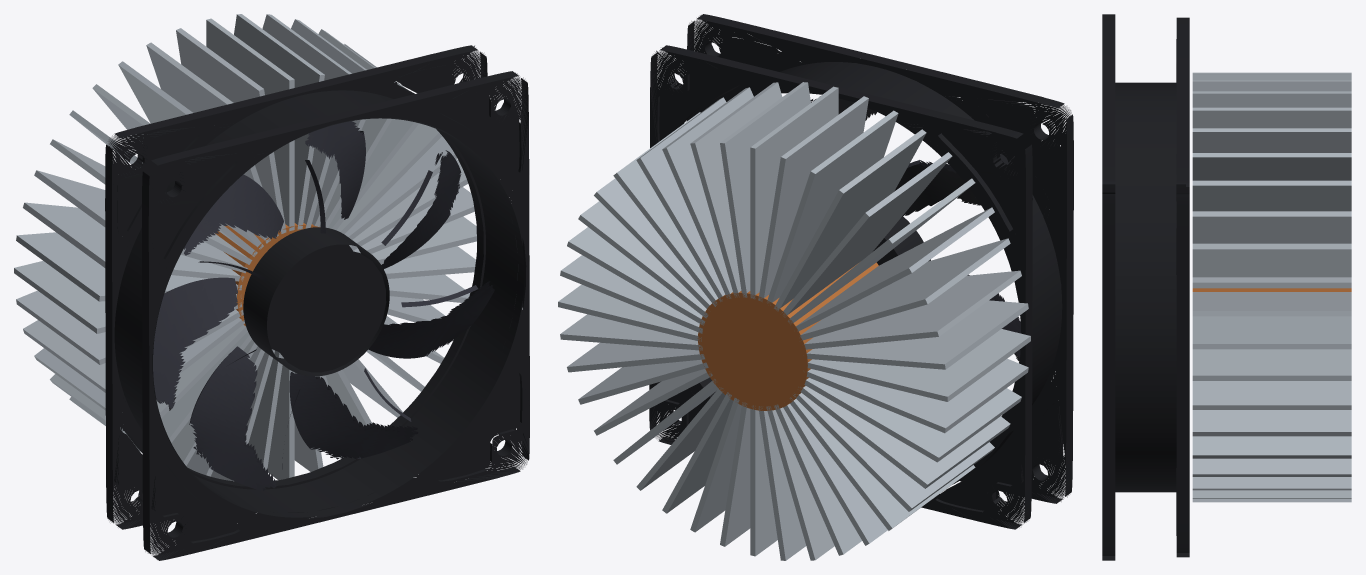
File: cooler_stock.glb
The picture shows the model from 3 angles, left to right: view 1: azimuth 30°, elevation 25°; view 2: azimuth 150°, elevation 25°; view 3: azimuth 270°, elevation 25°; orthographic projection. The views are drawn at different scales.
Parts seen in each view (by area): view 1: part_cooler_stock; view 2: part_cooler_stock; view 3: part_cooler_stock.
Boxes of the visible parts, bbox=[...] form: part_cooler_stock: bbox=[14, 14, 529, 560]; part_cooler_stock: bbox=[558, 14, 1073, 560]; part_cooler_stock: bbox=[1102, 14, 1351, 560].
Size of the model in its own units: 0.92 by 0.92 by 0.5336.
Materials: 4 (4 with a texture image).
